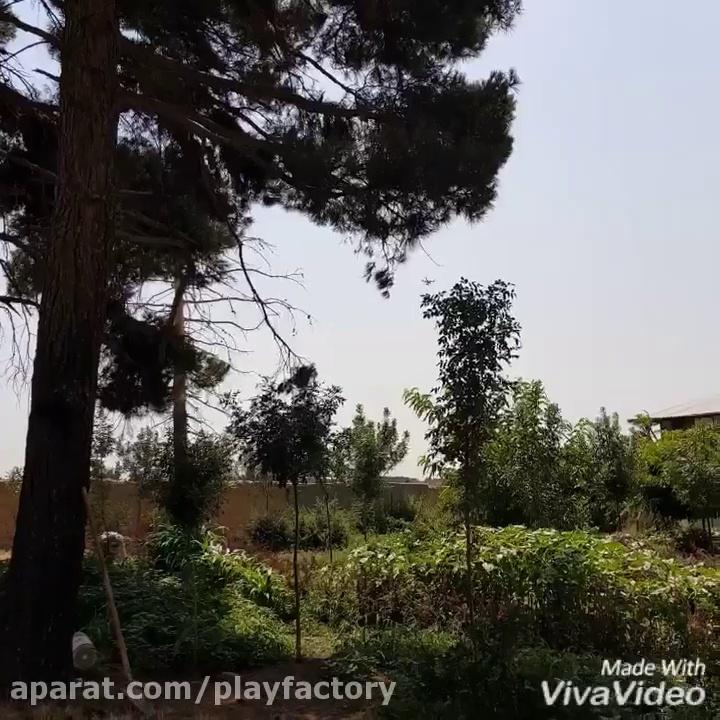drone: (416, 268, 439, 292)
